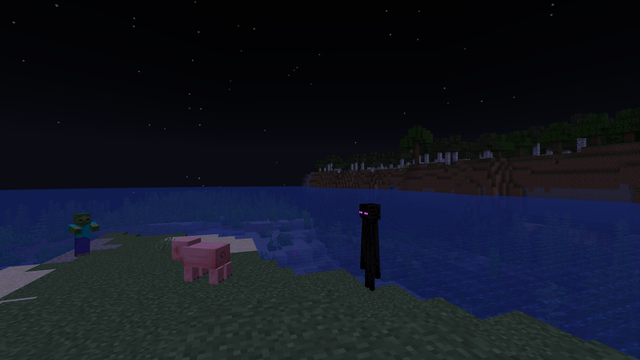cochons: (185, 239, 224, 286)
endermens: (357, 200, 382, 292)
zombies: (70, 213, 92, 257)
